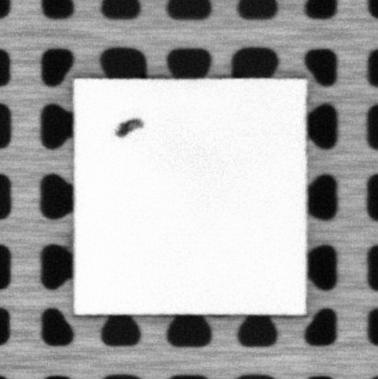DIE_INK: (116, 116, 145, 139)
